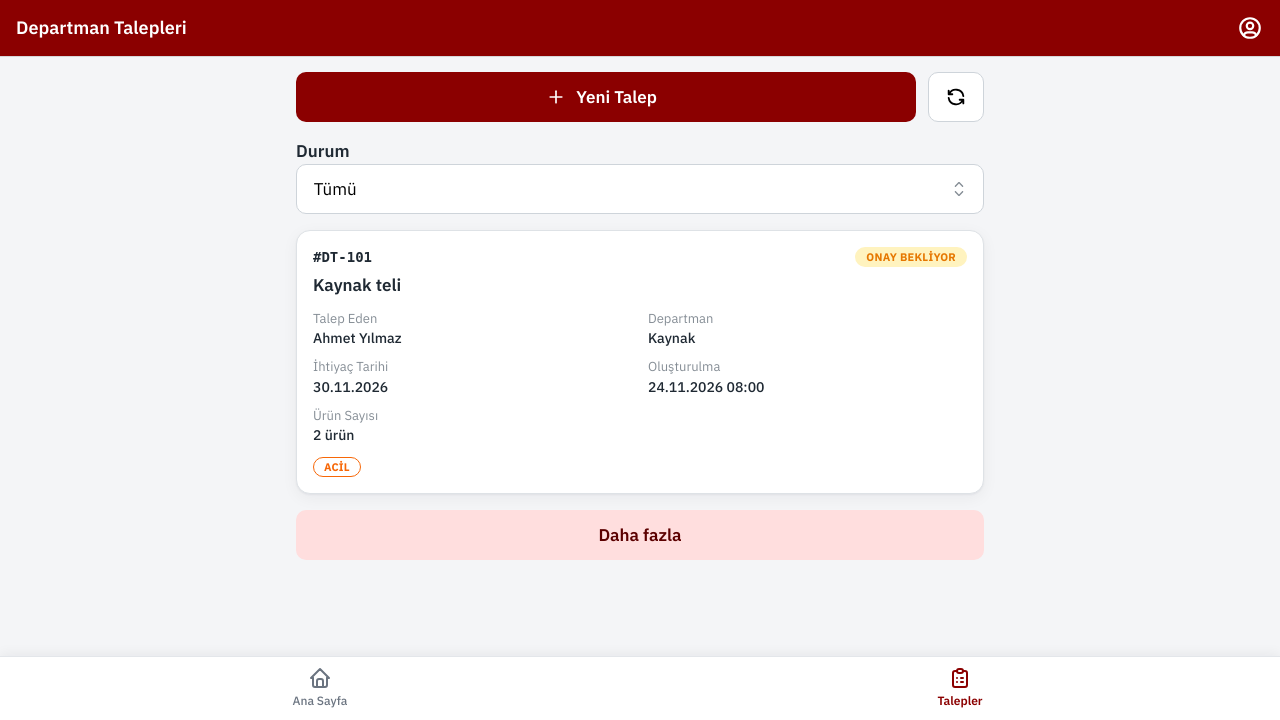
Test case: department request list › loads the next page on "Daha fazla"
Click the button "Daha fazla" at (640, 535), box top-left (296, 510), bottom-right (984, 560)
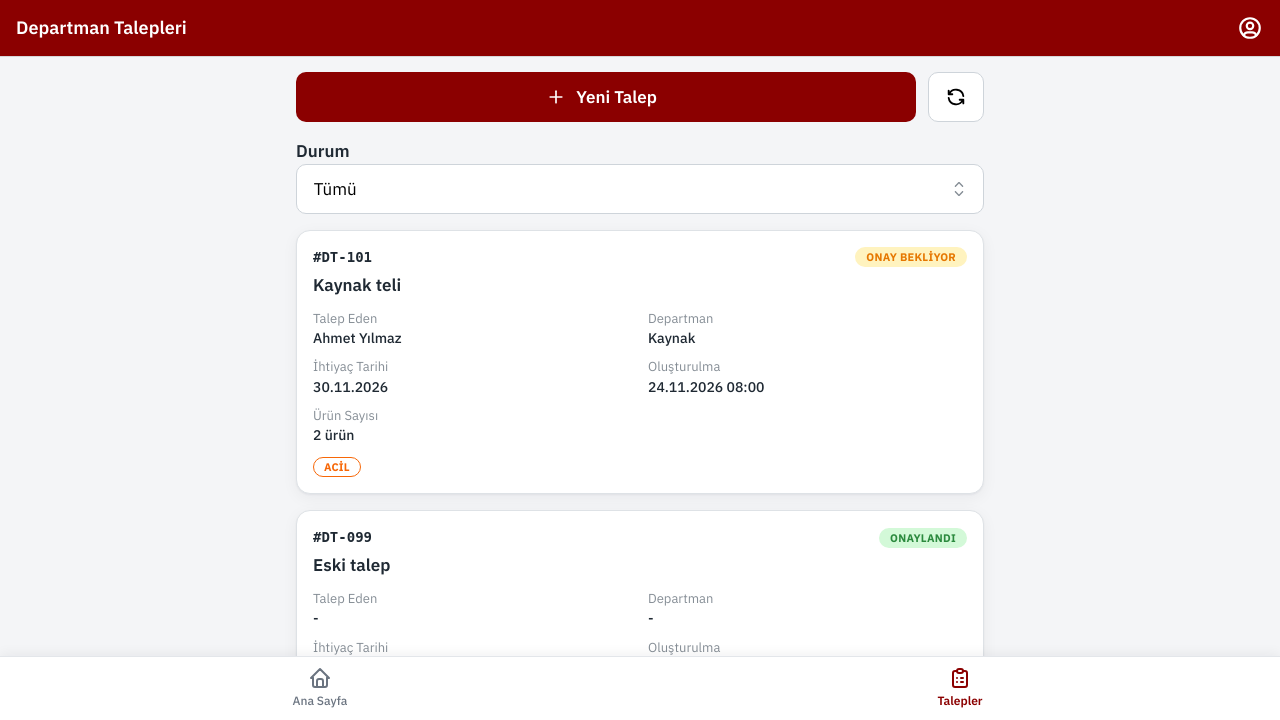
Now the text "Eski talep" is shown, box top-left (313, 554), bottom-right (390, 576)
